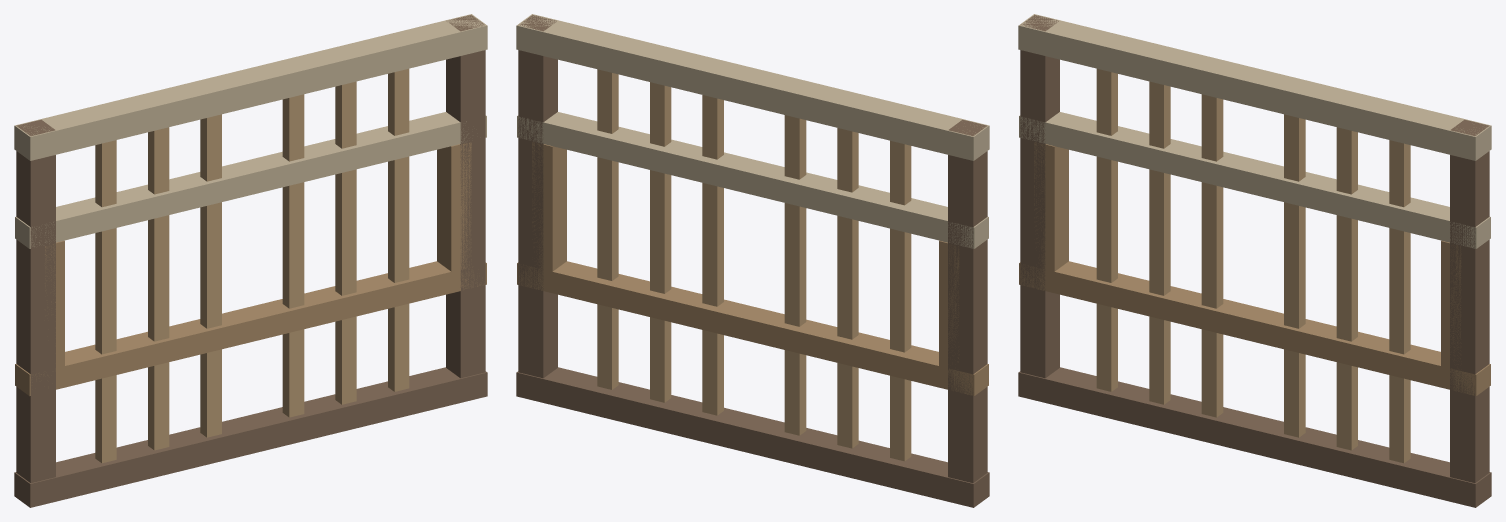
Rendered from wall_window.glb.
3 renders of one model, left to right at view 1: azimuth 30°, elevation 25°; view 2: azimuth 150°, elevation 25°; view 3: azimuth 330°, elevation 25°, orthographic.
Parts seen in each view (by area): view 1: wall_window_2, wall_window_3, wall_window_5, wall_window_4, wall_window_0, wall_window_1, wall_window_11, wall_window_9, wall_window_13, wall_window_12, wall_window_8, wall_window_10 (+2 smaller); view 2: wall_window_2, wall_window_3, wall_window_5, wall_window_4, wall_window_0, wall_window_1, wall_window_10, wall_window_9, wall_window_11, wall_window_13, wall_window_8, wall_window_12 (+2 smaller); view 3: wall_window_2, wall_window_3, wall_window_5, wall_window_4, wall_window_1, wall_window_0, wall_window_10, wall_window_8, wall_window_12, wall_window_9, wall_window_13, wall_window_11 (+2 smaller).
Boxes of the visible parts, x1=… form: wall_window_2: x1=14, y1=14, x2=487, y2=160; wall_window_3: x1=14, y1=367, x2=487, y2=507; wall_window_5: x1=15, y1=112, x2=486, y2=248; wall_window_4: x1=15, y1=261, x2=486, y2=395; wall_window_0: x1=16, y1=119, x2=55, y2=482; wall_window_1: x1=446, y1=15, x2=485, y2=378; wall_window_11: x1=282, y1=94, x2=304, y2=417; wall_window_9: x1=148, y1=127, x2=169, y2=450; wall_window_13: x1=388, y1=68, x2=409, y2=391; wall_window_12: x1=335, y1=81, x2=356, y2=404; wall_window_8: x1=95, y1=140, x2=116, y2=463; wall_window_10: x1=200, y1=114, x2=221, y2=437; wall_window_2: x1=516, y1=14, x2=989, y2=160; wall_window_3: x1=516, y1=367, x2=989, y2=507; wall_window_5: x1=517, y1=112, x2=988, y2=248; wall_window_4: x1=517, y1=261, x2=988, y2=395; wall_window_0: x1=948, y1=119, x2=987, y2=482; wall_window_1: x1=518, y1=15, x2=557, y2=378; wall_window_10: x1=784, y1=115, x2=806, y2=435; wall_window_9: x1=837, y1=128, x2=858, y2=448; wall_window_11: x1=702, y1=95, x2=723, y2=415; wall_window_13: x1=597, y1=69, x2=618, y2=389; wall_window_8: x1=890, y1=140, x2=911, y2=461; wall_window_12: x1=650, y1=82, x2=671, y2=402; wall_window_2: x1=1018, y1=14, x2=1491, y2=160; wall_window_3: x1=1018, y1=367, x2=1491, y2=507; wall_window_5: x1=1019, y1=112, x2=1490, y2=248; wall_window_4: x1=1019, y1=261, x2=1490, y2=395; wall_window_1: x1=1450, y1=119, x2=1489, y2=482; wall_window_0: x1=1020, y1=15, x2=1059, y2=378; wall_window_10: x1=1201, y1=94, x2=1223, y2=417; wall_window_8: x1=1096, y1=68, x2=1117, y2=391; wall_window_12: x1=1336, y1=127, x2=1357, y2=450; wall_window_9: x1=1149, y1=81, x2=1170, y2=404; wall_window_13: x1=1389, y1=140, x2=1410, y2=463; wall_window_11: x1=1284, y1=114, x2=1305, y2=437.
Bounding box in the file's own units: 4 × 3.1 × 0.24.
